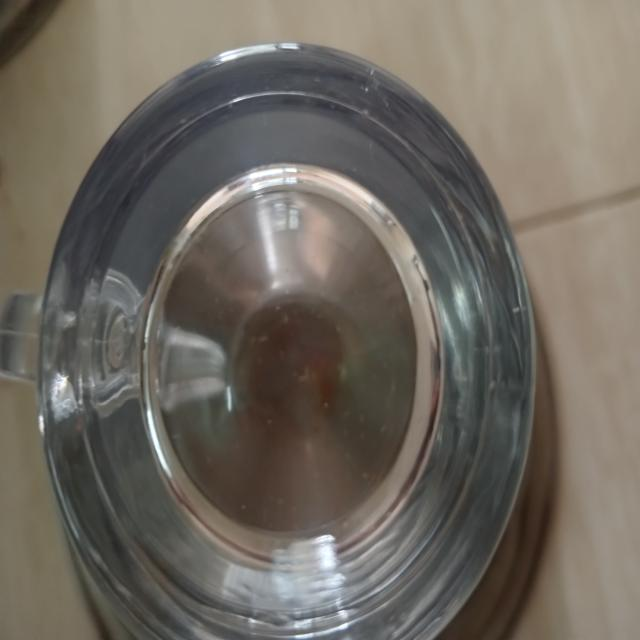glass-VX4N: (1, 40, 541, 640)
